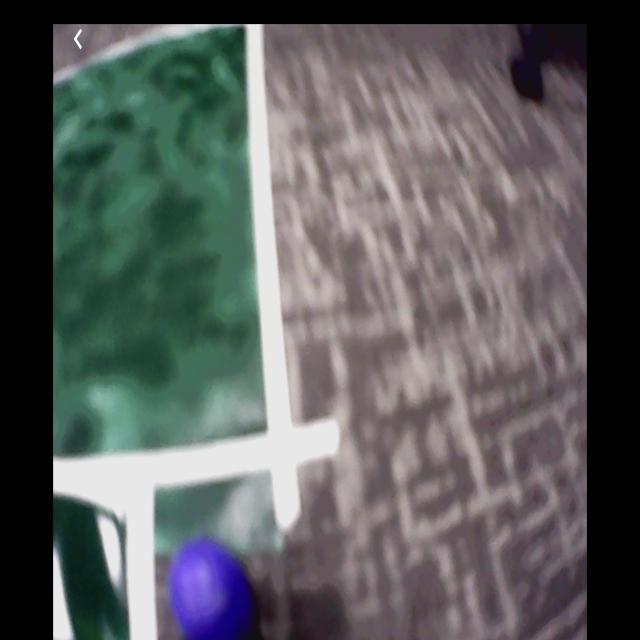ball: (171, 542, 261, 640)
